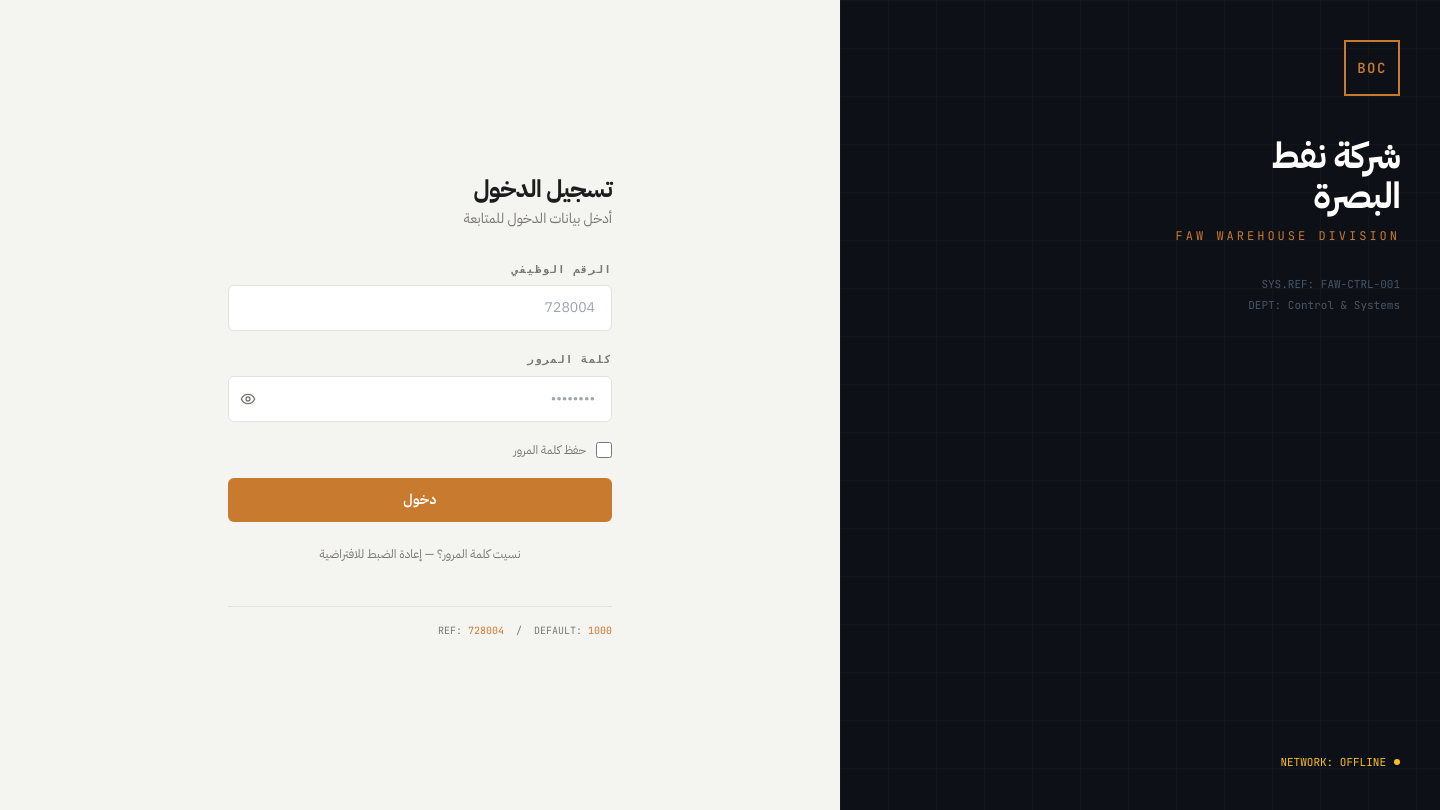
Test: Login Screen — authentication (offline) › DEFAULT_PASSWORD "1000" logs in non-admin employee (727466)
Step 1. Type "727466" into the field with placeholder "728004" → (420, 308), box [228,285,612,331]
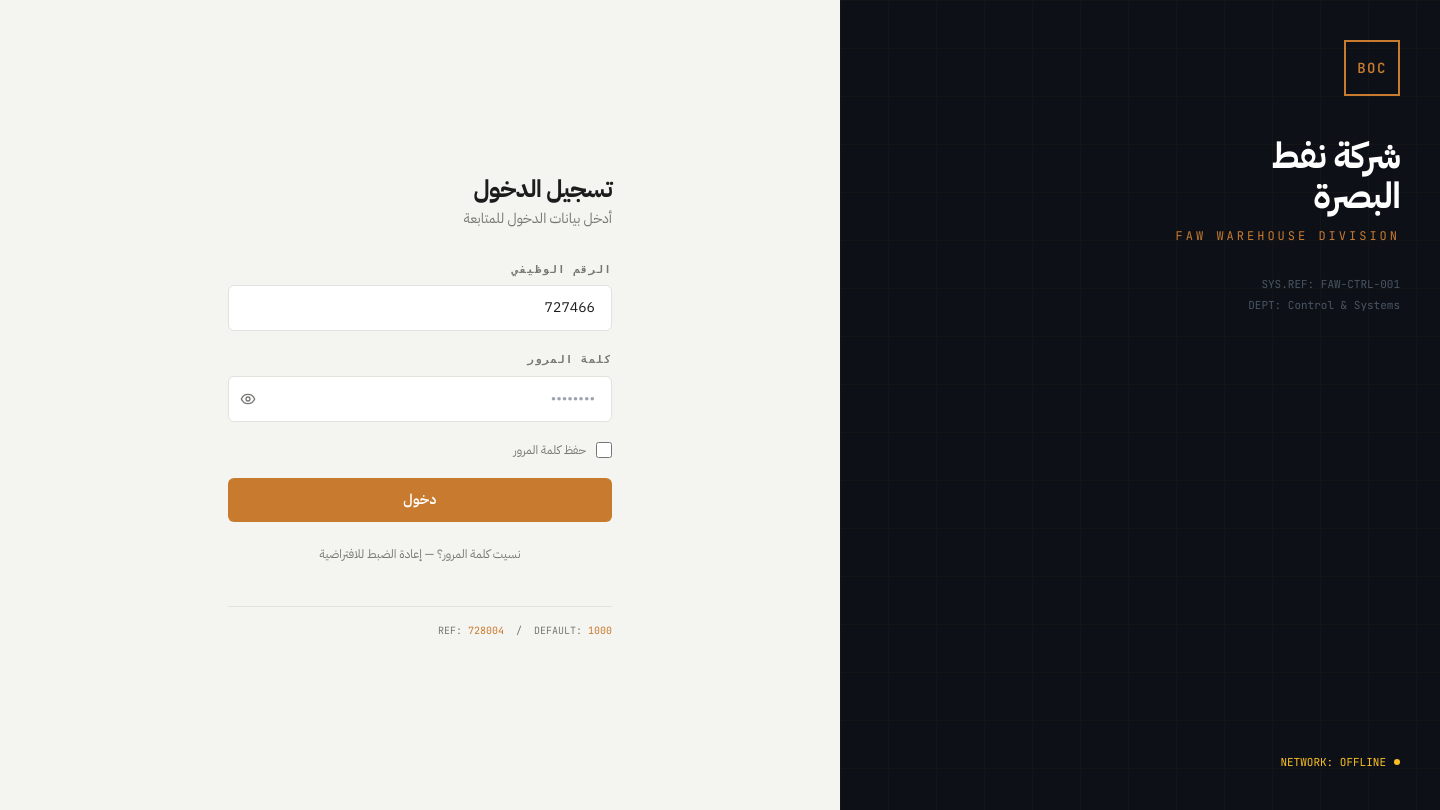
Step 2. Type "1000" into the password field with placeholder "••••••••" → (420, 398), box [228,376,612,422]
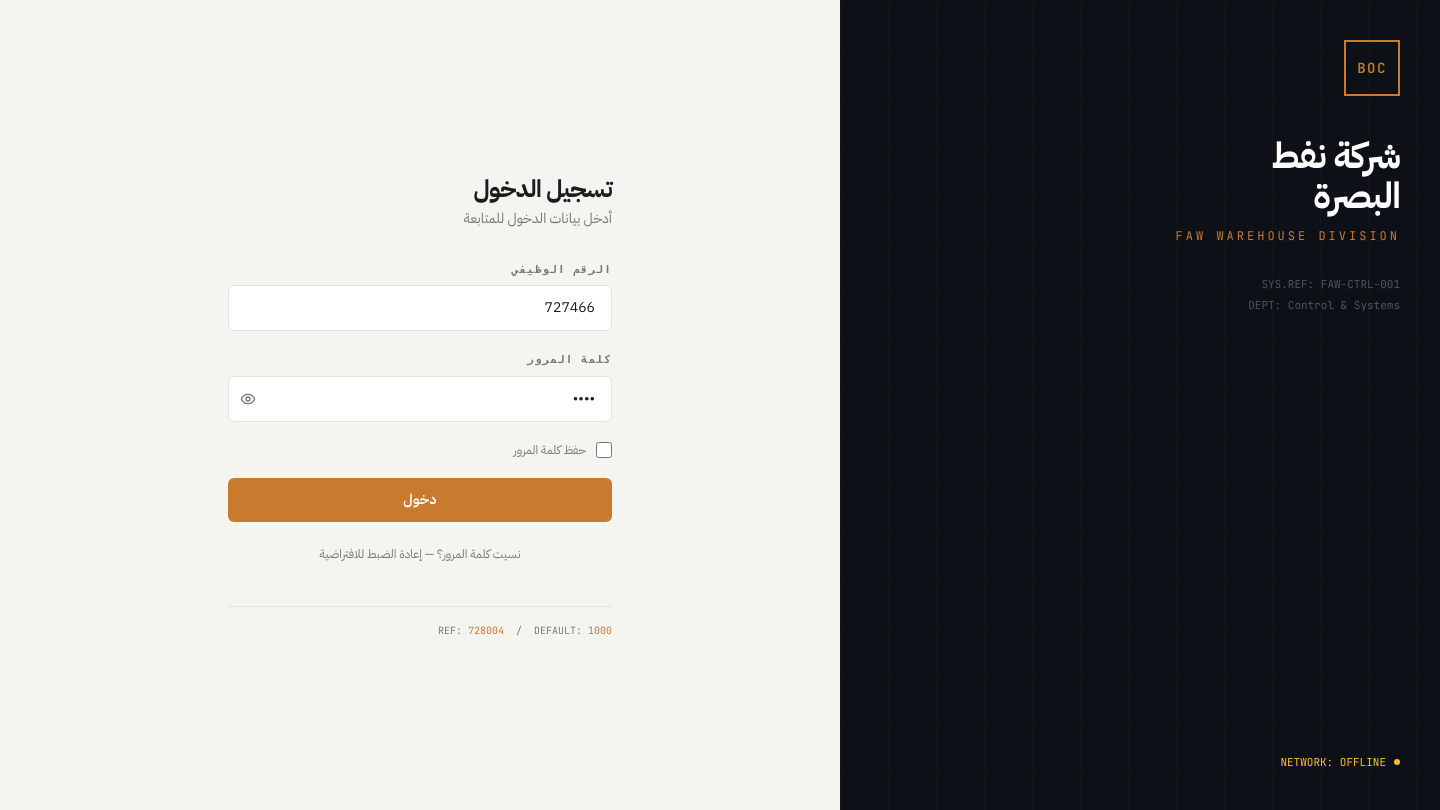
Step 3. Click the button "دخول" → (420, 500), box [228,478,612,522]
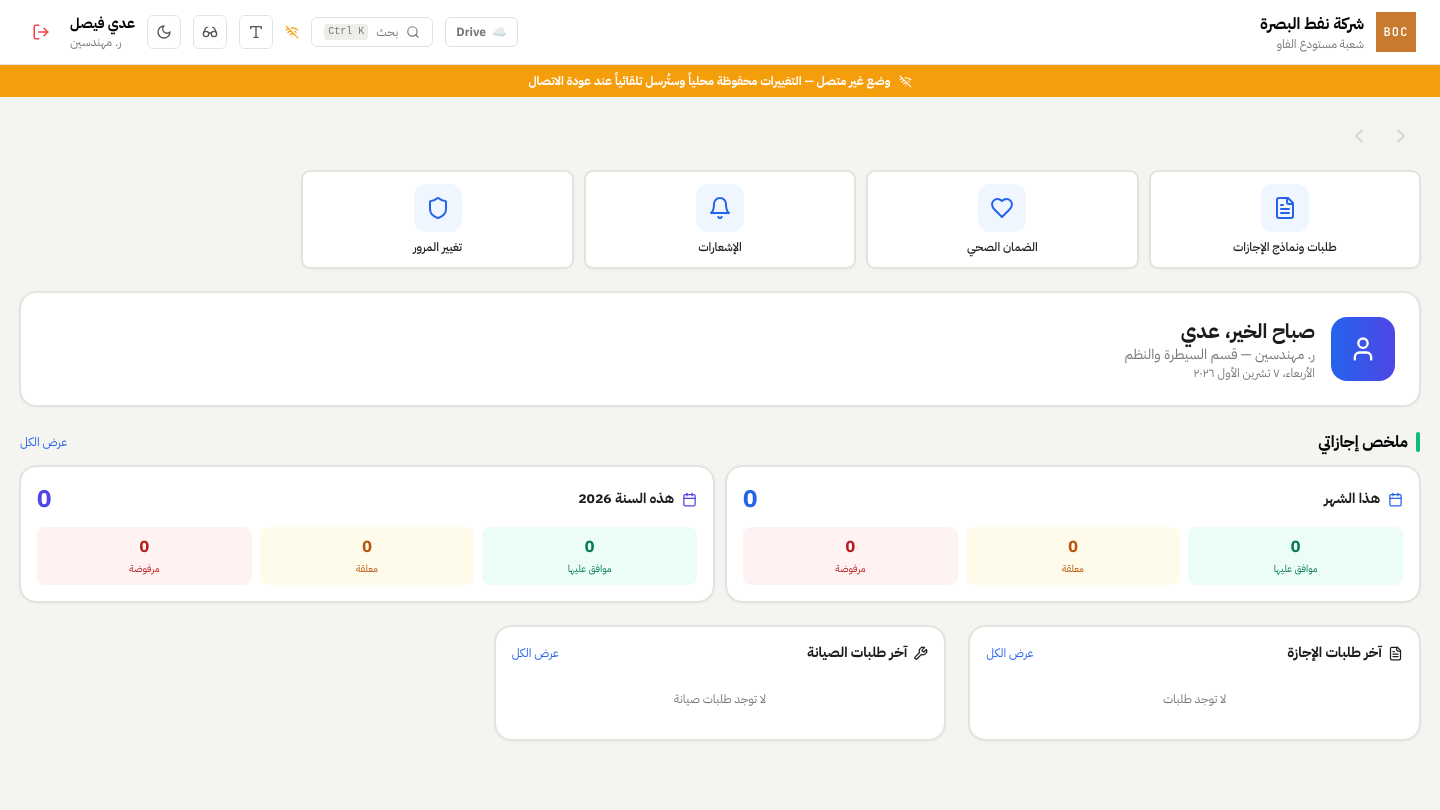
Now the text with placeholder "728004" is gone
